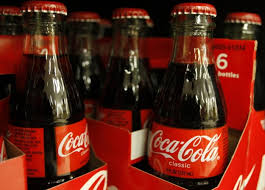coke-glass-bottle: (8, 1, 104, 175), (153, 3, 227, 187), (109, 4, 154, 125)
